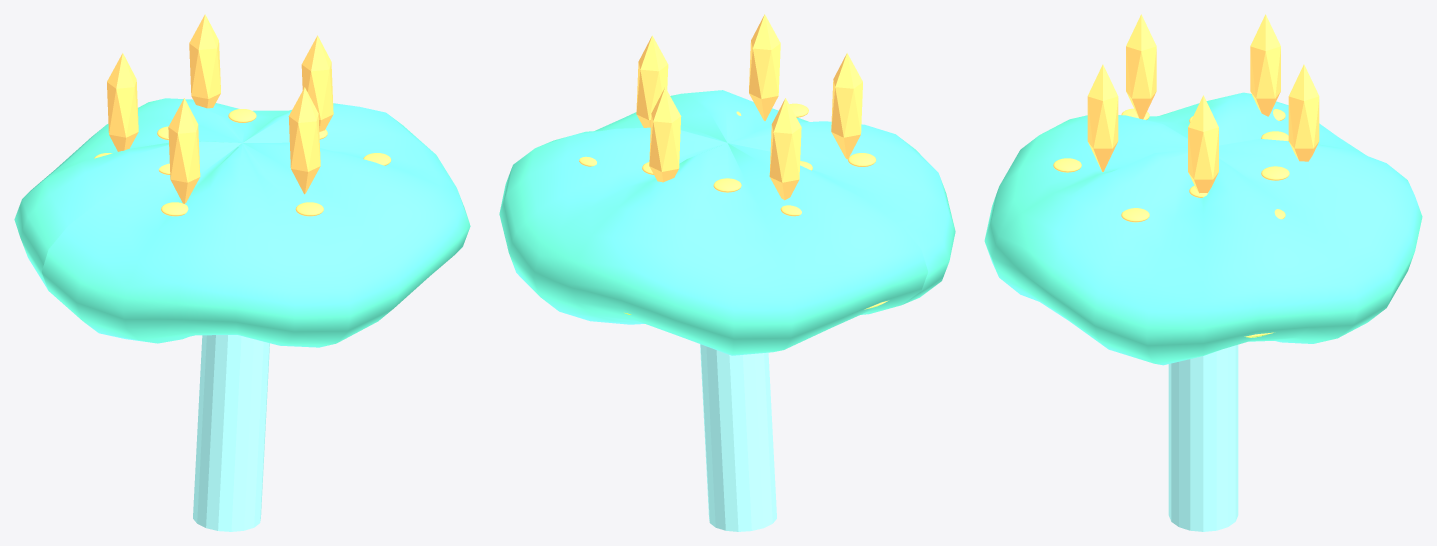
File: mushroom-mutant.glb
The picture shows the model from 3 angles, left to right: view 1: azimuth 30°, elevation 25°; view 2: azimuth 150°, elevation 25°; view 3: azimuth 270°, elevation 25°; orthographic projection.
Visible parts, largest first — view 1: Mushroom crown.005, Mushroom stalk.005, Mutation crystal bud.004, Mutation crystal bud.003, Mutation crystal bud.002, Mutation crystal bud.001, Mutation crystal bud; view 2: Mushroom crown.005, Mushroom stalk.005, Mutation crystal bud.003, Mutation crystal bud.004, Mutation crystal bud.002, Mutation crystal bud.001, Mutation crystal bud; view 3: Mushroom crown.005, Mushroom stalk.005, Mutation crystal bud.004, Mutation crystal bud.003, Mutation crystal bud.001, Mutation crystal bud.002, Mutation crystal bud.
Part boxes in pixels (bbox=[...]): Mushroom crown.005: bbox=[14, 98, 470, 347]; Mushroom stalk.005: bbox=[193, 335, 269, 531]; Mutation crystal bud.004: bbox=[288, 87, 320, 194]; Mutation crystal bud.003: bbox=[168, 98, 200, 203]; Mutation crystal bud.002: bbox=[107, 53, 138, 151]; Mutation crystal bud.001: bbox=[189, 14, 220, 108]; Mutation crystal bud: bbox=[301, 35, 333, 131]; Mushroom crown.005: bbox=[499, 90, 955, 355]; Mushroom stalk.005: bbox=[700, 344, 776, 531]; Mutation crystal bud.003: bbox=[831, 53, 862, 159]; Mutation crystal bud.004: bbox=[749, 14, 780, 120]; Mutation crystal bud.002: bbox=[769, 98, 801, 200]; Mutation crystal bud.001: bbox=[649, 87, 681, 182]; Mutation crystal bud: bbox=[636, 35, 668, 127]; Mushroom crown.005: bbox=[984, 92, 1422, 365]; Mushroom stalk.005: bbox=[1168, 345, 1238, 531]; Mutation crystal bud.004: bbox=[1087, 64, 1118, 171]; Mutation crystal bud.003: bbox=[1126, 14, 1156, 119]; Mutation crystal bud.001: bbox=[1288, 64, 1319, 161]; Mutation crystal bud.002: bbox=[1250, 14, 1280, 116]; Mutation crystal bud: bbox=[1188, 95, 1218, 193].
Bounding box in the file's own units: 3.1 × 3.41 × 2.9.
